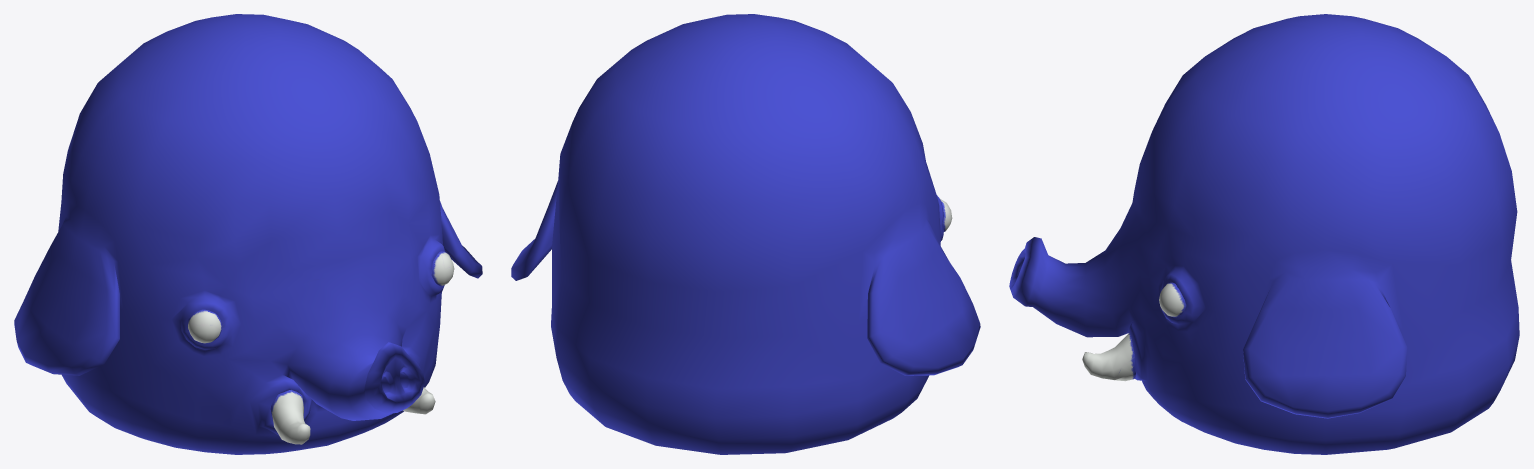
File: hati.fbx
The picture shows the model from 3 angles, left to right: view 1: azimuth 30°, elevation 25°; view 2: azimuth 150°, elevation 25°; view 3: azimuth 270°, elevation 25°; orthographic projection.
Visible parts, largest first — view 1: mesh_id22, mesh_id23; view 2: mesh_id22; view 3: mesh_id22, mesh_id23.
Boxes of the visible parts, <box> form: mesh_id22: <box>14,14,482,454</box>; mesh_id23: <box>188,251,454,444</box>; mesh_id22: <box>511,14,980,454</box>; mesh_id22: <box>1009,14,1519,454</box>; mesh_id23: <box>1082,282,1186,381</box>.
Size of the model in its own units: 1024 by 797 by 1026.
1 material, 1 textured.
